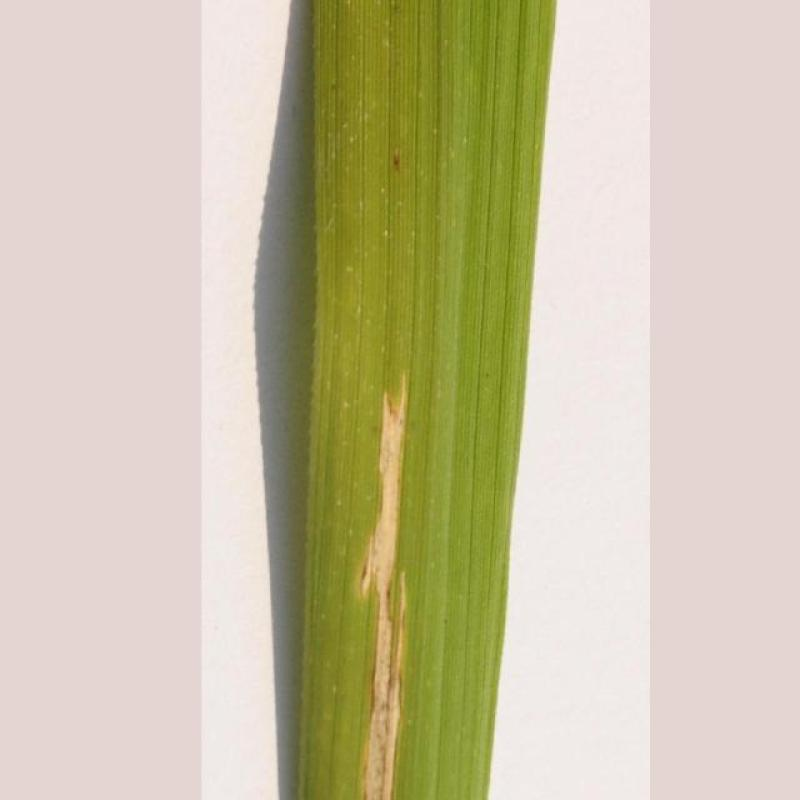Bacterial_Leaf_Blight: (336, 366, 436, 800)
